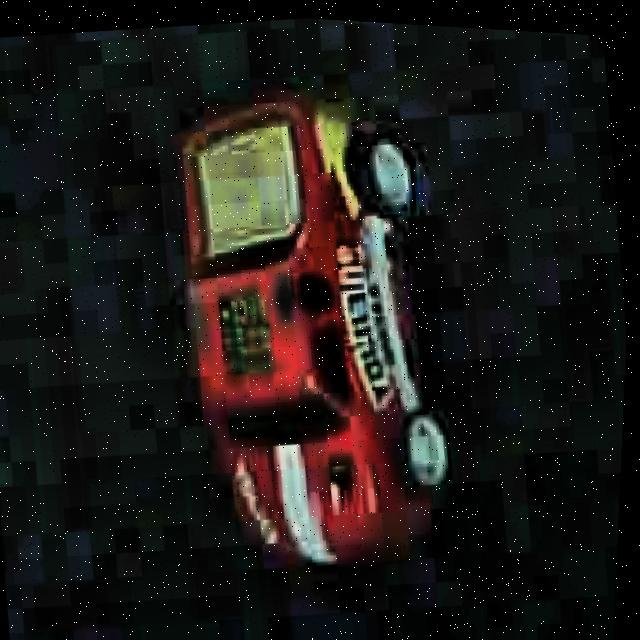car: (141, 65, 485, 591)
